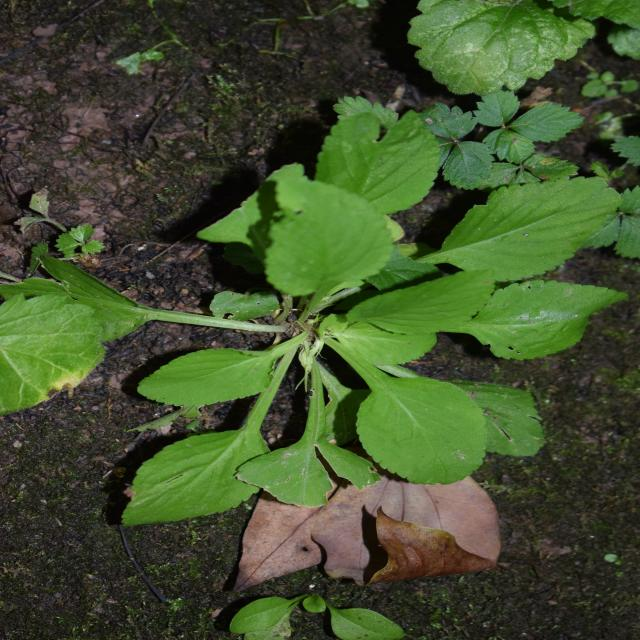Viola: (157, 33, 519, 522)
